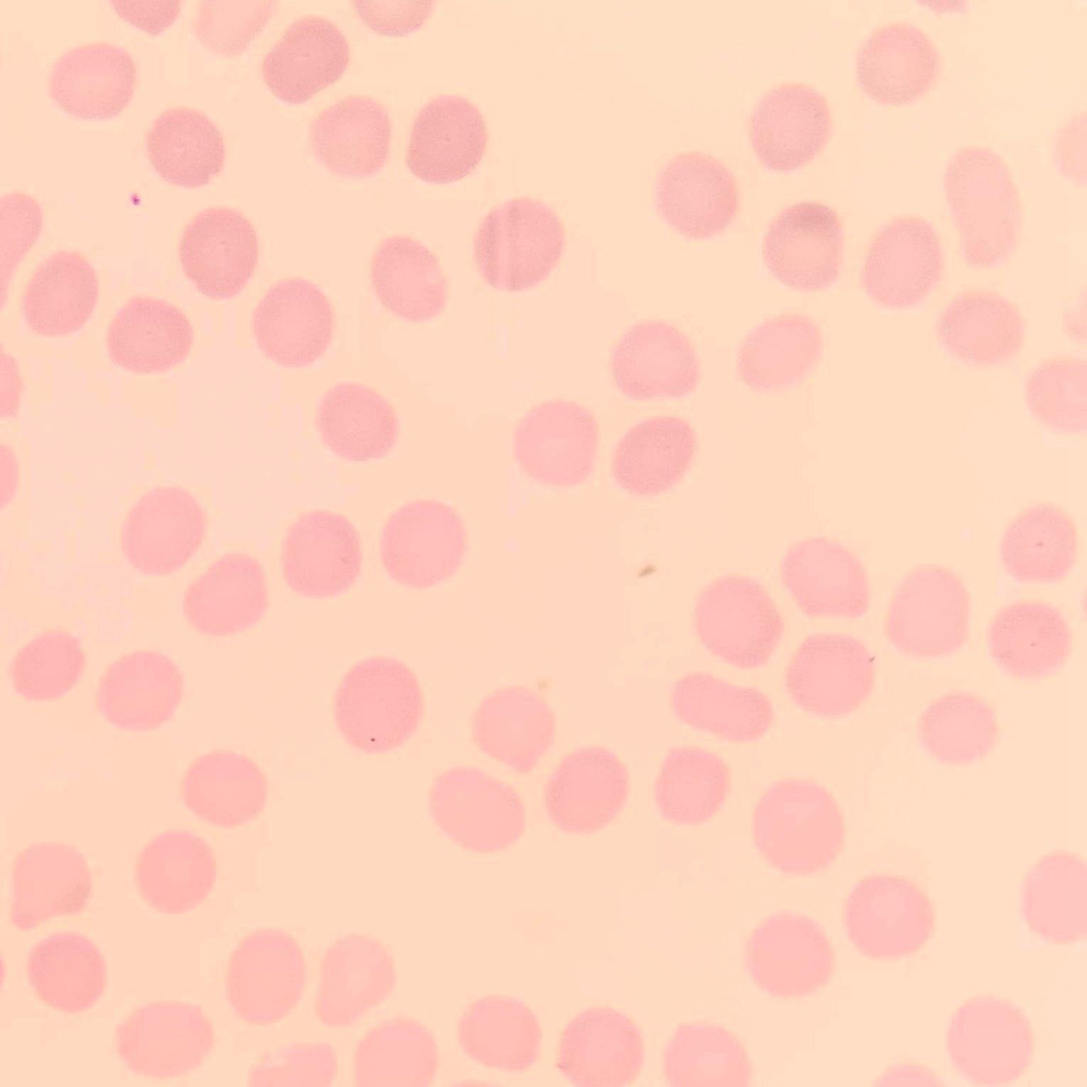Uninfected: (942, 144, 1023, 267), (750, 777, 845, 876), (333, 656, 425, 754), (57, 564, 153, 654), (884, 563, 972, 659), (428, 765, 524, 853), (224, 926, 309, 1023), (475, 198, 565, 289), (379, 498, 467, 588), (693, 573, 780, 664), (120, 484, 207, 575), (10, 838, 94, 931), (512, 399, 600, 487), (843, 872, 932, 959), (259, 17, 349, 103), (943, 995, 1028, 1086), (315, 931, 399, 1023), (177, 205, 261, 296), (785, 632, 876, 716), (744, 912, 833, 997), (779, 535, 869, 619), (470, 685, 555, 773), (182, 553, 270, 638), (97, 648, 185, 732), (281, 509, 363, 599), (543, 747, 627, 834), (134, 828, 218, 915), (252, 277, 335, 365), (670, 670, 767, 745), (115, 999, 209, 1076), (309, 94, 394, 179), (406, 94, 488, 182), (20, 249, 101, 338), (107, 293, 195, 374), (750, 82, 832, 168), (862, 216, 943, 303), (611, 318, 698, 399), (656, 151, 738, 236), (612, 414, 697, 496), (369, 234, 450, 320), (855, 22, 939, 104), (181, 748, 267, 828), (555, 1007, 642, 1086), (318, 379, 401, 460), (49, 42, 136, 119), (146, 105, 227, 187), (26, 931, 108, 1012), (736, 313, 821, 391), (1017, 849, 1087, 943), (936, 289, 1021, 366), (654, 746, 734, 826), (458, 995, 542, 1071), (998, 502, 1076, 583), (988, 600, 1068, 678), (765, 208, 841, 290), (918, 691, 997, 766), (352, 1017, 440, 1084), (11, 628, 87, 703), (663, 1021, 748, 1086), (1025, 357, 1083, 431)
